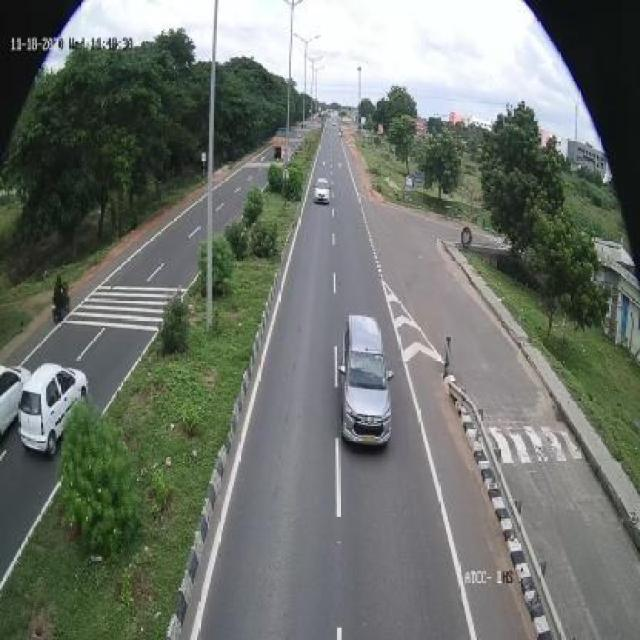car: (340, 309, 395, 451), (18, 360, 74, 462), (2, 360, 20, 455), (314, 168, 334, 209)
